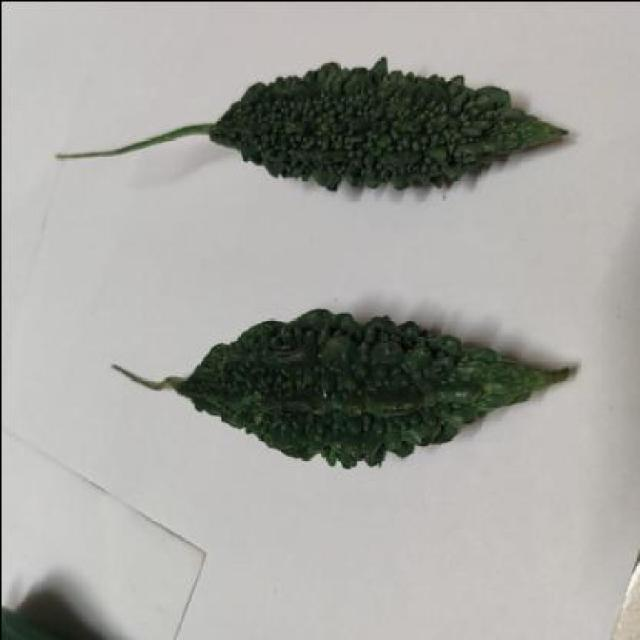Bitter melon: (109, 298, 580, 468), (72, 54, 580, 210)
